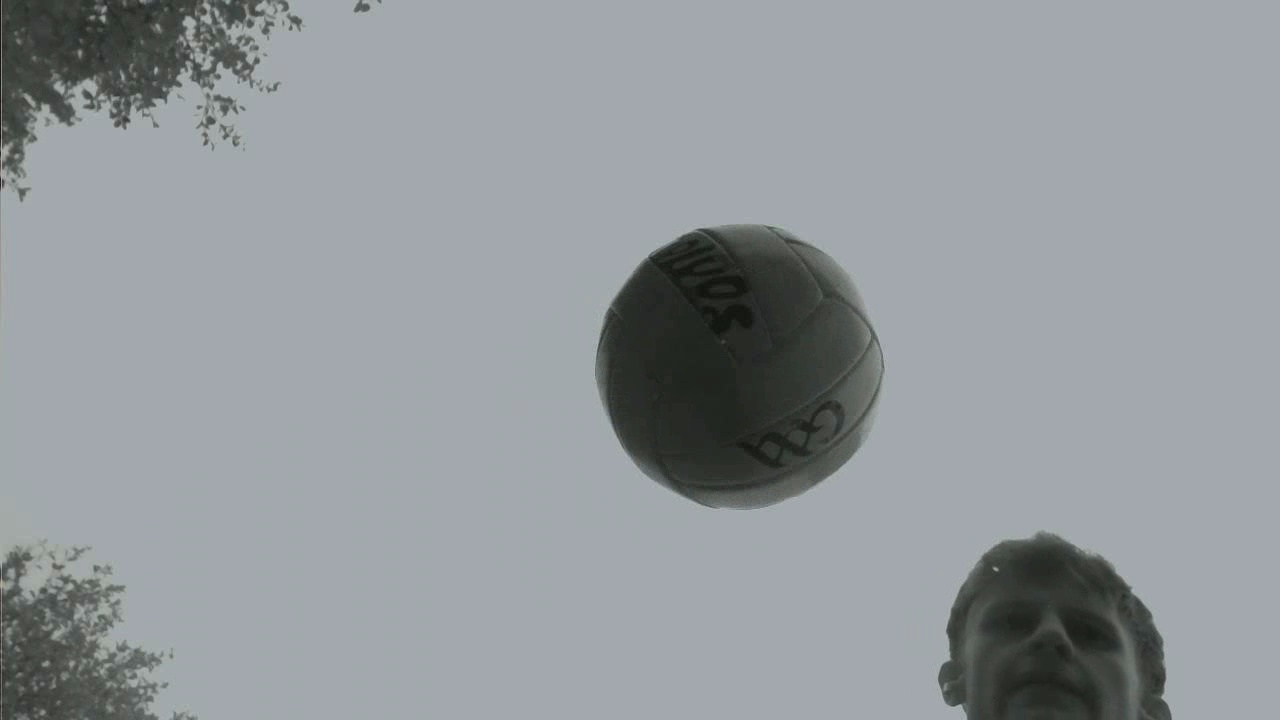Football-Spotter: (596, 224, 882, 506)
